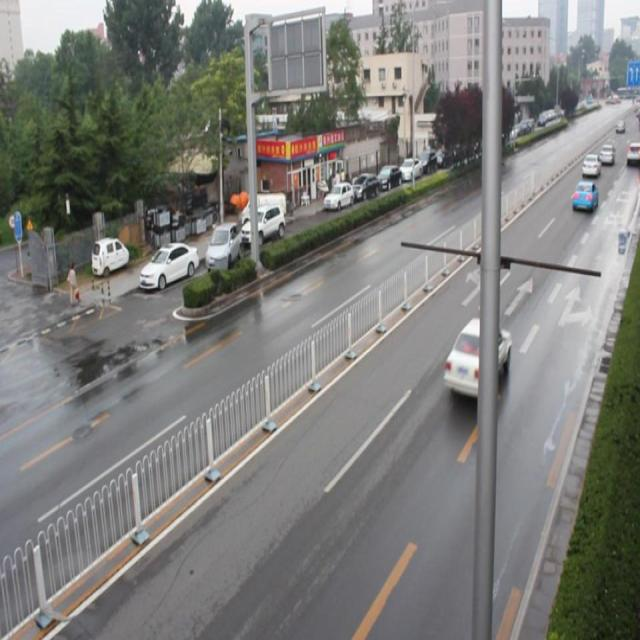car: (442, 316, 512, 401), (570, 180, 596, 212)
